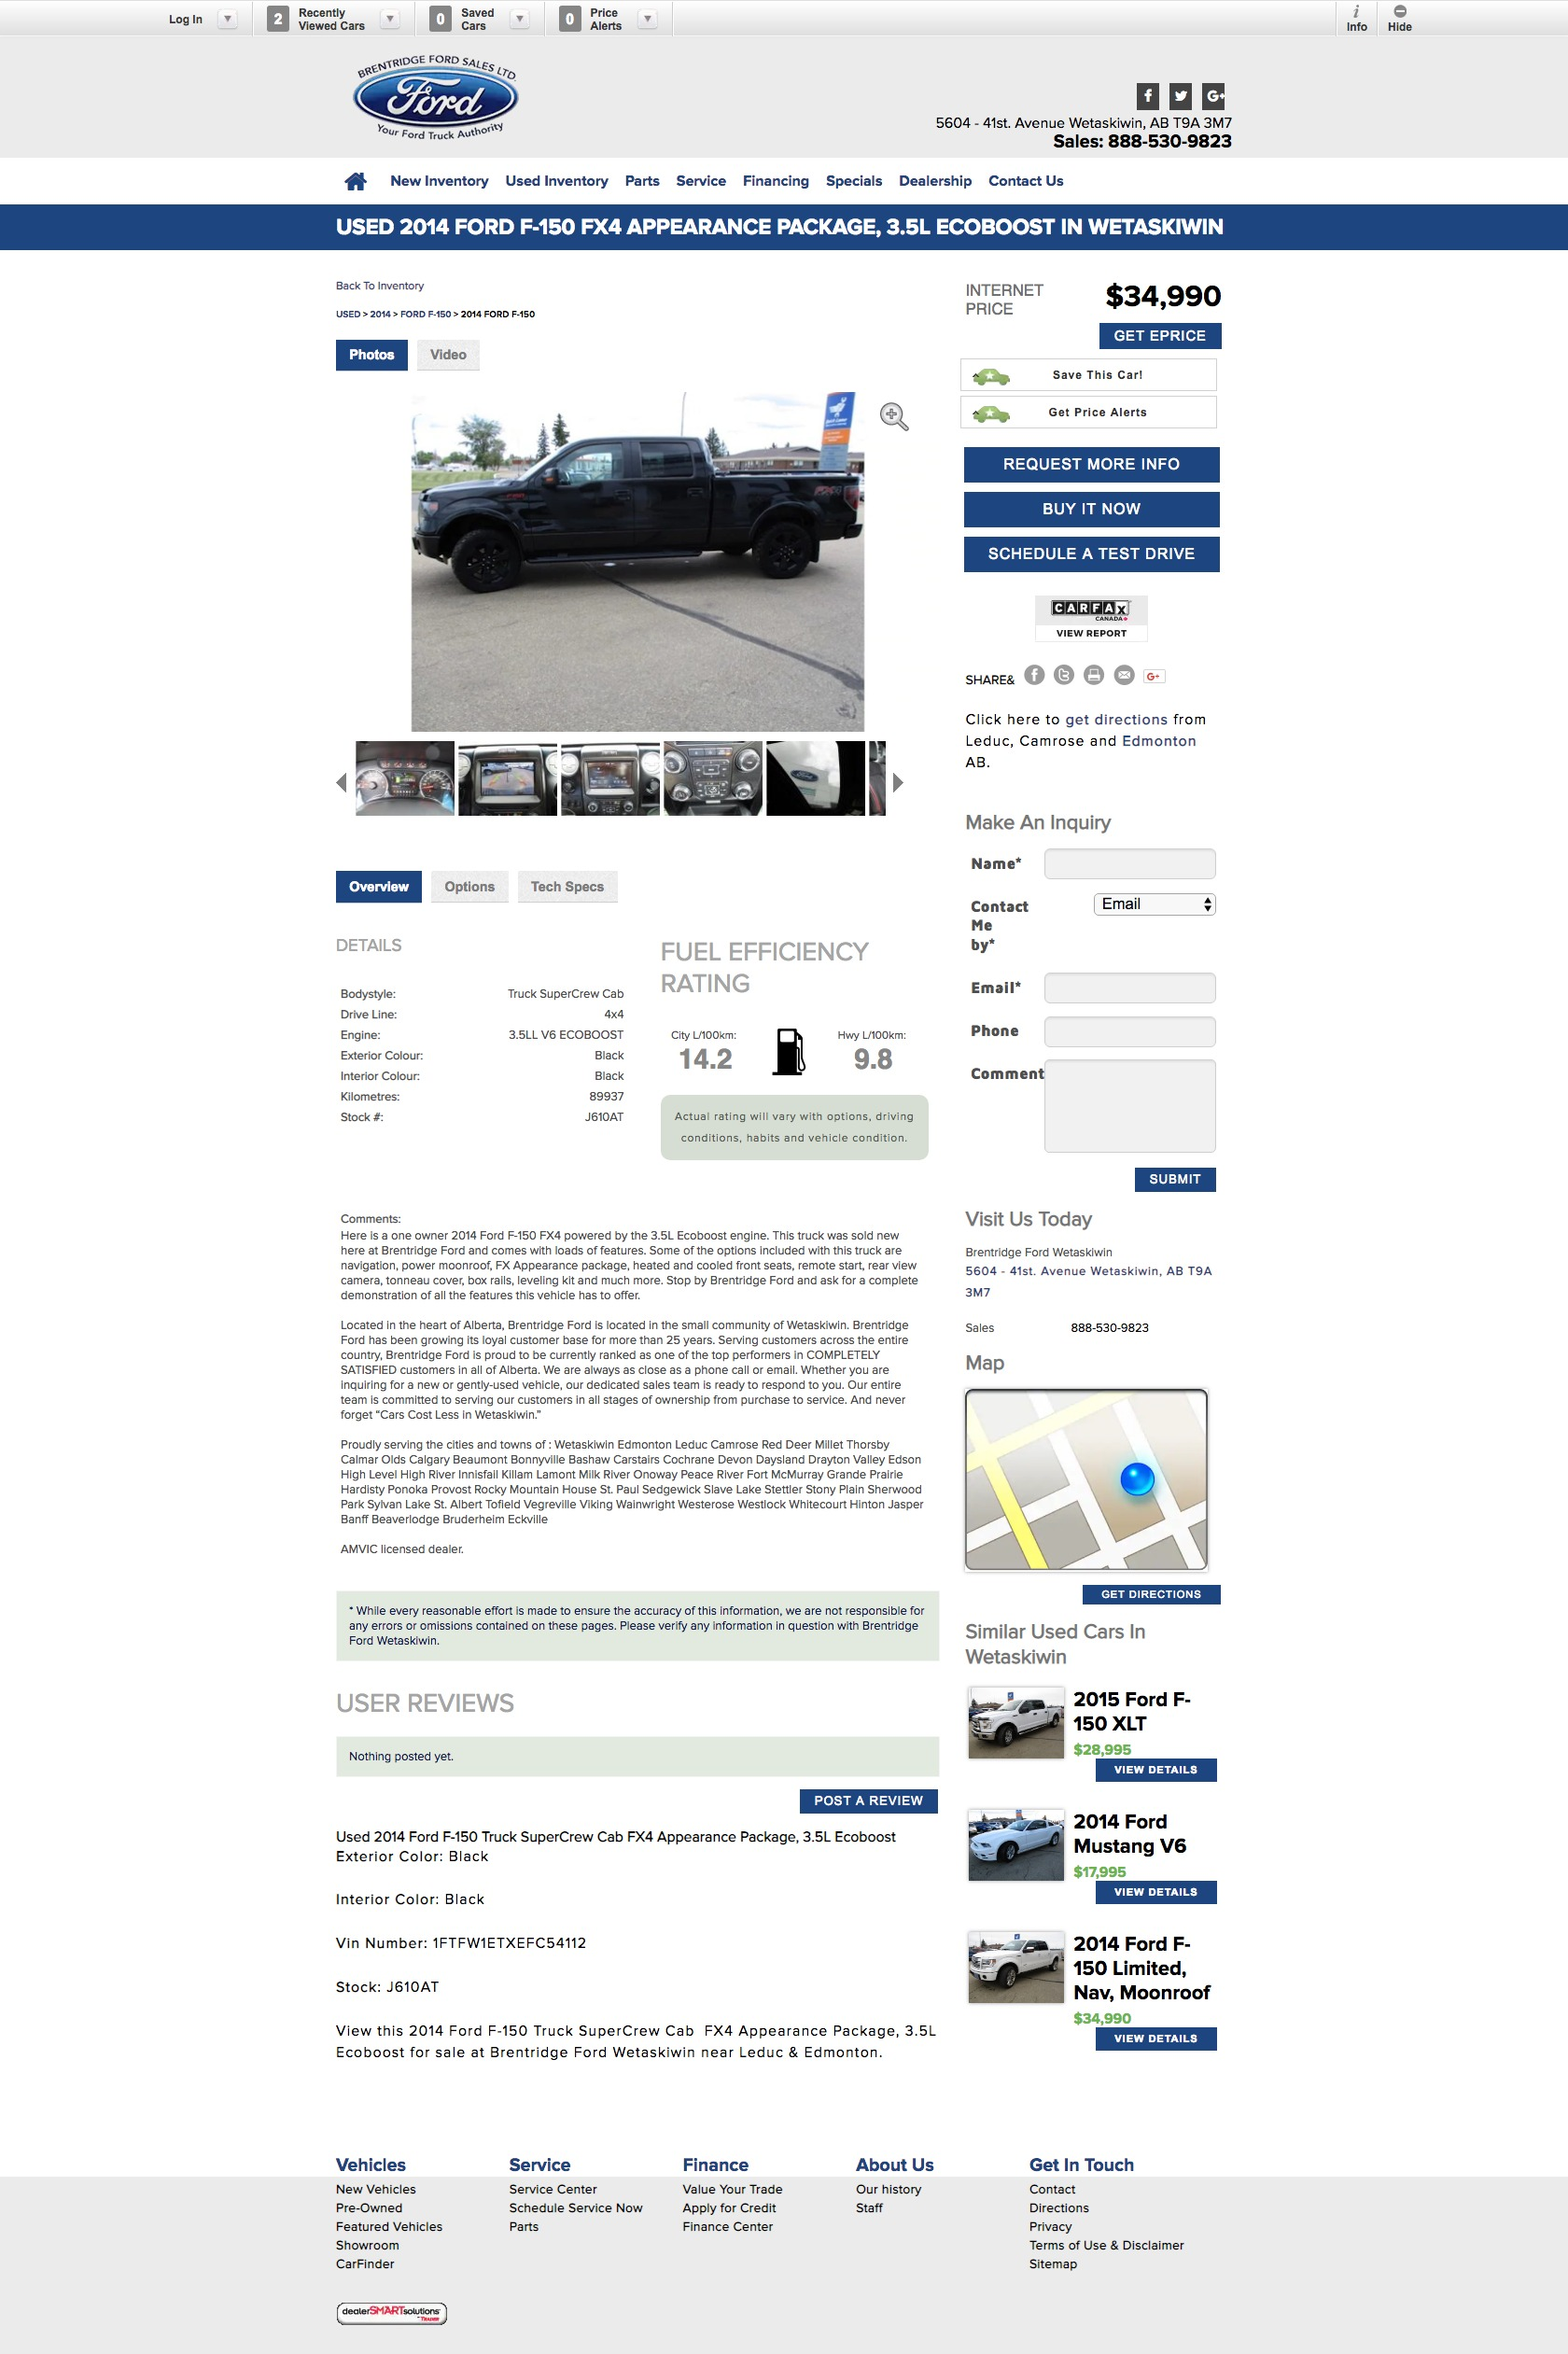car: (892, 772, 905, 795)
